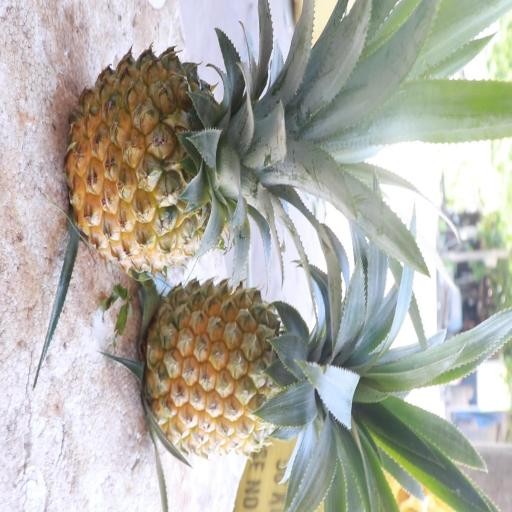Pineapple - v8 v1: (62, 40, 313, 279), (139, 274, 375, 469)
